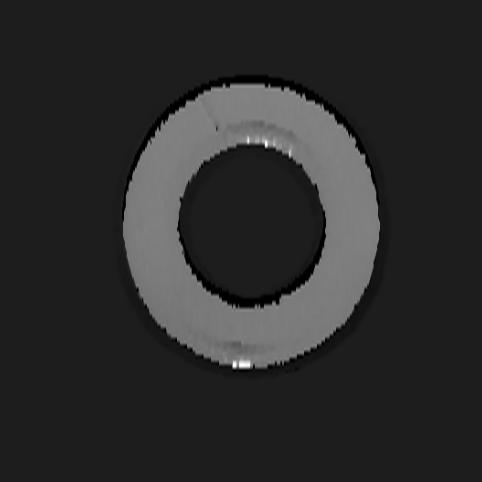defect: (200, 97, 219, 132)
